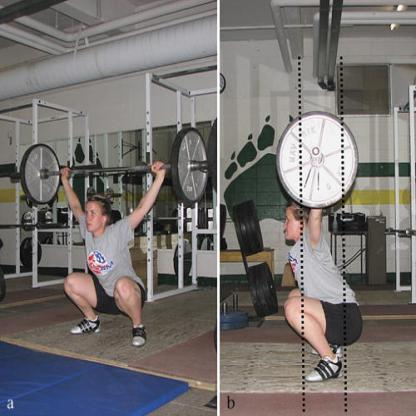barbell: (20, 129, 211, 207), (276, 112, 358, 209)
